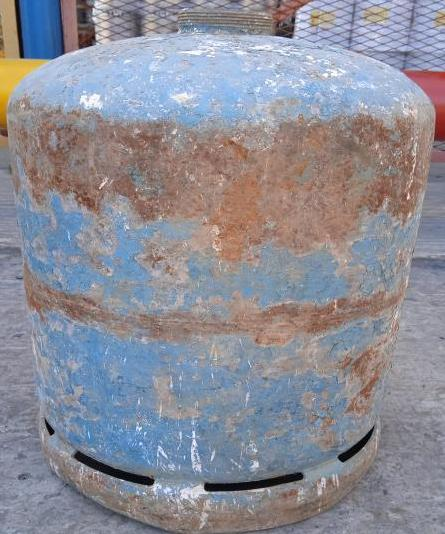cylinder: (1, 0, 445, 534)
